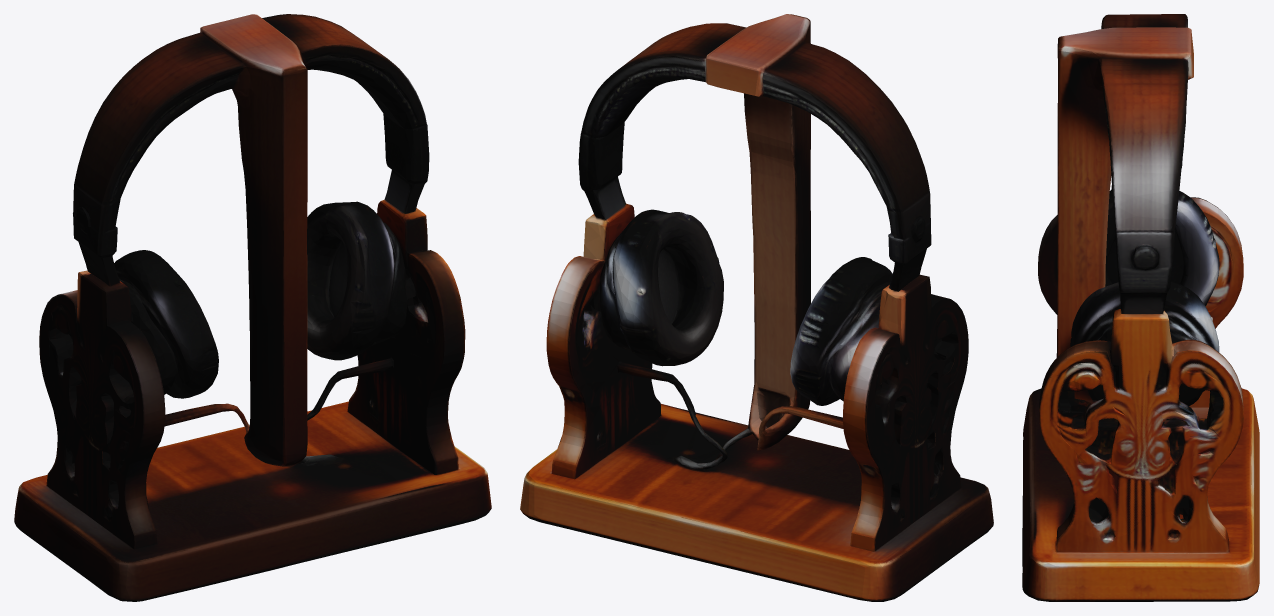
The model's file is wooden-headphone-stand-vintage.jpeg.glb.
3 views of the same model, side by side, from view 1: azimuth 30°, elevation 25°; view 2: azimuth 150°, elevation 25°; view 3: azimuth 270°, elevation 25° (orthographic).
Visible parts, largest first — view 1: world; view 2: world; view 3: world.
Boxes of the visible parts, left/top/right/bottom form: world: left=14, top=14, right=491, bottom=601; world: left=520, top=14, right=993, bottom=601; world: left=1022, top=14, right=1259, bottom=601.
Size of the model in its own units: 0.8258 by 0.9998 by 0.4537.
Materials: 1 (1 with a texture image).
